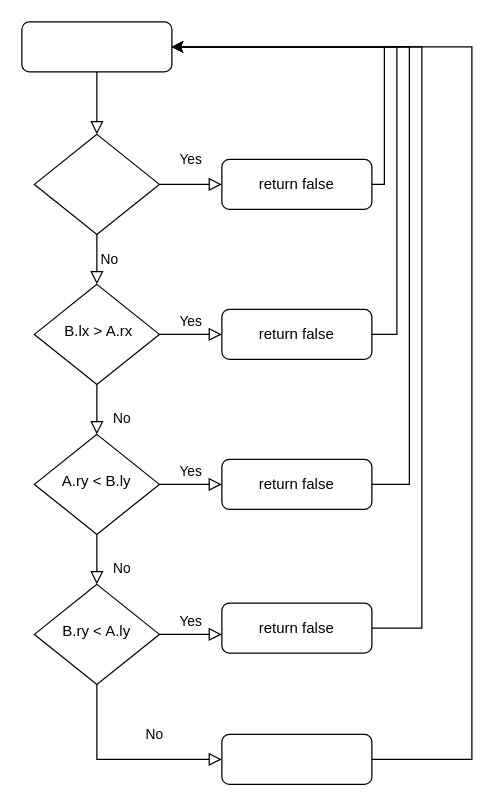
Image size: 504x806. Some labels were removed from this diagram. The shapes that lost their labels are listed below. From the top down, each one's centre as x and y in pixels, then its label:
(96,46): input A,B
(96,183): A.lx > B.rx
(296,758): return true
